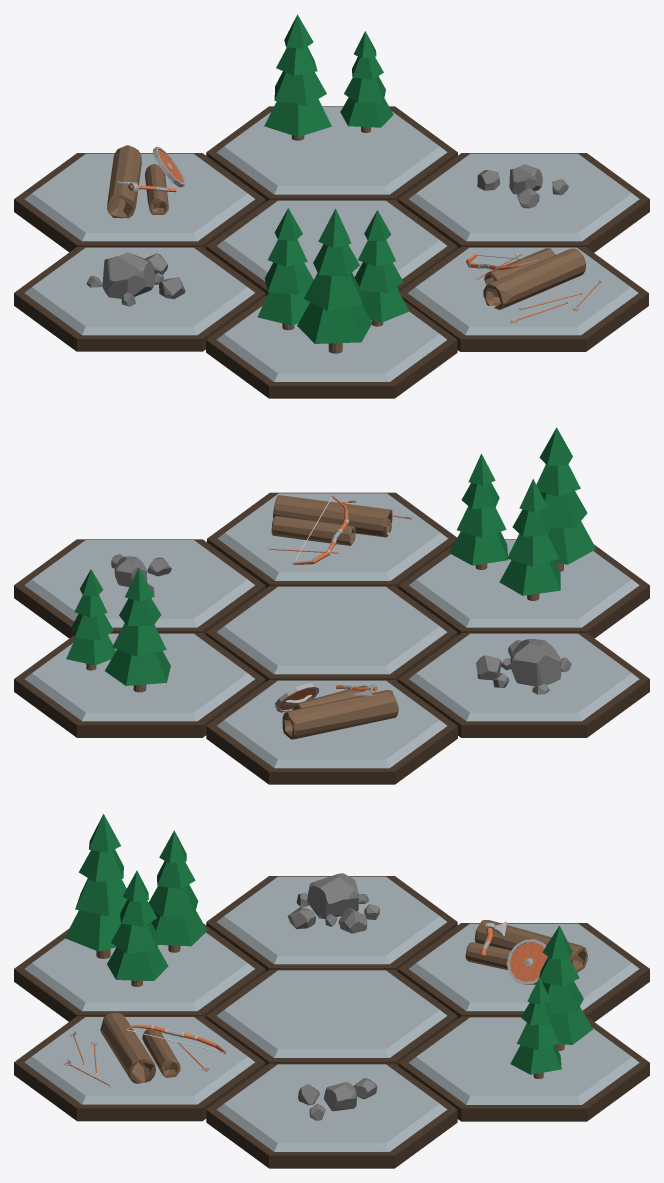
Rendered from WinterEnvironment.gltf.
3 renders of one model, top to bottom at view 1: azimuth 30°, elevation 25°; view 2: azimuth 150°, elevation 25°; view 3: azimuth 270°, elevation 25°, orthographic.
Visible parts, largest first — view 1: hexagon.005, hexagon.006, hexagon.004, hexagon.003, hexagon.001, hexagon.002, hexagon.007, Leaves.002, Leaves.001, Leaves.005, Leaves.004, Trunks.001 (+7 smaller); view 2: hexagon.007, hexagon.005, hexagon.003, hexagon.001, hexagon.006, hexagon.002, hexagon.004, Leaves.001, Leaves.002, Leaves.005, Leaves.004, Trunks (+9 smaller); view 3: hexagon.006, hexagon.007, hexagon.003, hexagon.004, hexagon.005, hexagon.002, hexagon.001, Leaves.002, Leaves.005, Leaves.004, Leaves.001, Leaves.003 (+9 smaller).
Part boxes in pixels (left/top/right/bottom): hexagon.005: left=14, top=247, right=265, bottom=351; hexagon.006: left=398, top=153, right=649, bottom=252; hexagon.004: left=399, top=247, right=648, bottom=351; hexagon.003: left=206, top=106, right=457, bottom=201; hexagon.001: left=14, top=153, right=265, bottom=252; hexagon.002: left=206, top=295, right=457, bottom=398; hexagon.007: left=206, top=200, right=457, bottom=295; Leaves.002: left=297, top=208, right=372, bottom=353; Leaves.001: left=264, top=14, right=331, bottom=140; Leaves.005: left=257, top=208, right=313, bottom=330; Leaves.004: left=354, top=210, right=409, bottom=326; Trunks.001: left=483, top=248, right=585, bottom=309; hexagon.007: left=206, top=586, right=457, bottom=681; hexagon.005: left=398, top=633, right=649, bottom=737; hexagon.003: left=14, top=633, right=265, bottom=737; hexagon.001: left=206, top=680, right=457, bottom=784; hexagon.006: left=14, top=539, right=265, bottom=638; hexagon.002: left=398, top=539, right=649, bottom=638; hexagon.004: left=207, top=492, right=456, bottom=588; Leaves.001: left=105, top=567, right=170, bottom=692; Leaves.002: left=536, top=427, right=595, bottom=572; Leaves.005: left=499, top=479, right=560, bottom=600; Leaves.004: left=449, top=453, right=508, bottom=569; Trunks: left=282, top=690, right=398, bottom=739; hexagon.006: left=206, top=1063, right=457, bottom=1168; hexagon.007: left=206, top=969, right=457, bottom=1065; hexagon.003: left=398, top=1016, right=649, bottom=1121; hexagon.004: left=14, top=1016, right=265, bottom=1121; hexagon.005: left=206, top=876, right=457, bottom=971; hexagon.002: left=14, top=923, right=265, bottom=1021; hexagon.001: left=398, top=923, right=649, bottom=1021; Leaves.002: left=64, top=814, right=127, bottom=958; Leaves.005: left=149, top=830, right=207, bottom=952; Leaves.004: left=107, top=870, right=168, bottom=986; Leaves.001: left=539, top=925, right=592, bottom=1050; Leaves.003: left=510, top=977, right=561, bottom=1078.
Size of the model in its own units: 27.73 by 7.45 by 26.64.
8 materials, 2 textured.
